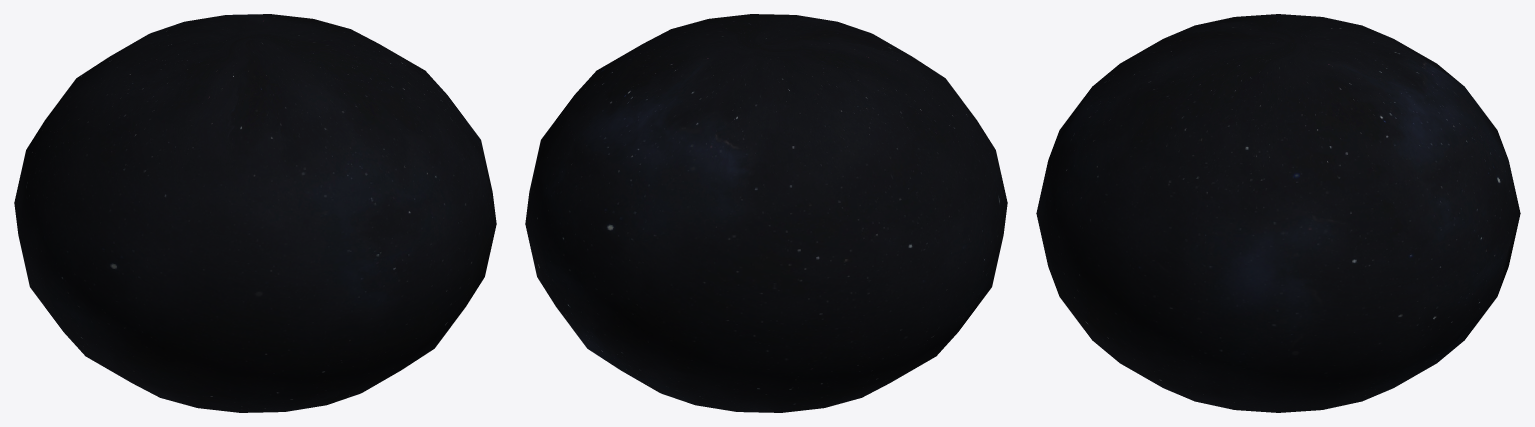
The model's file is ts_cjdhxk01.FBX.
3 renders of one model, left to right at view 1: azimuth 30°, elevation 25°; view 2: azimuth 150°, elevation 25°; view 3: azimuth 270°, elevation 25°, orthographic.
Visible parts, largest first — view 1: ts_cjdhxk01; view 2: ts_cjdhxk01; view 3: ts_cjdhxk01.
Boxes of the visible parts, x1,y1,x2,y2 form: ts_cjdhxk01: (14,14,496,412); ts_cjdhxk01: (525,14,1007,412); ts_cjdhxk01: (1036,14,1520,412).
Size of the model in its own units: 12660 by 9938 by 12660.
